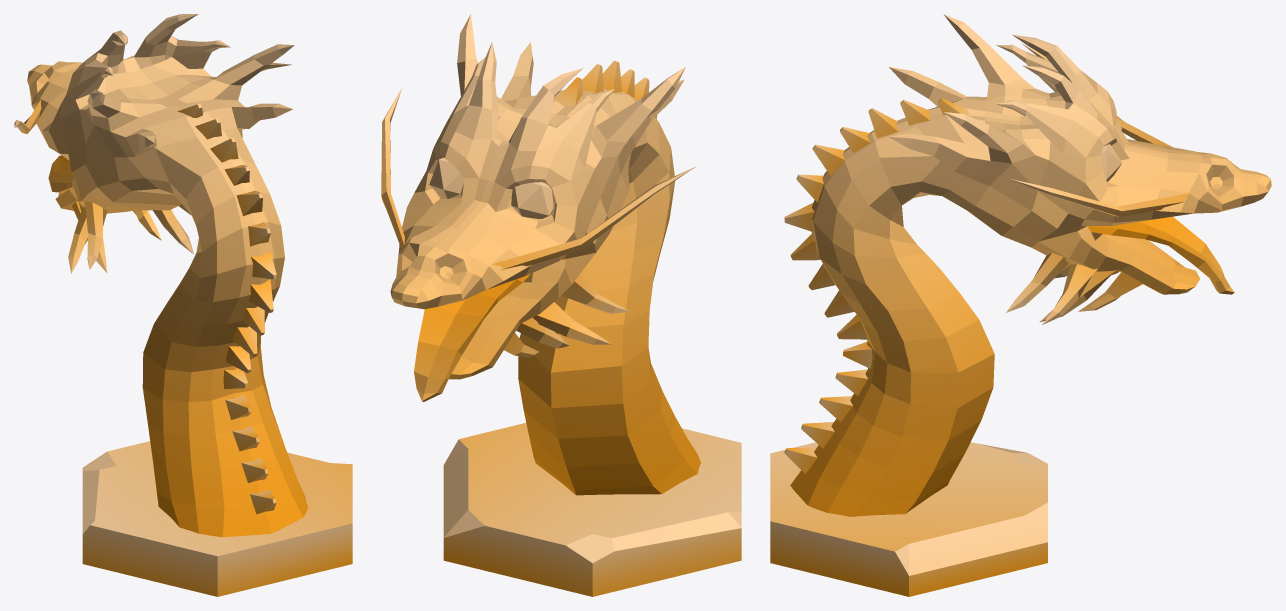
File: m_dragonStatueGold.fbx
3 views of the same model, side by side, from view 1: azimuth 30°, elevation 25°; view 2: azimuth 150°, elevation 25°; view 3: azimuth 270°, elevation 25° (orthographic). The views are drawn at different scales.
Parts seen in each view (by area): view 1: DragonGold; view 2: DragonGold; view 3: DragonGold.
Part boxes in pixels (x1,y1,x2,y2): DragonGold: [14, 14, 352, 596]; DragonGold: [381, 14, 741, 596]; DragonGold: [770, 14, 1271, 596].
Bounding box in the file's own units: 94.84 × 150 × 141.
